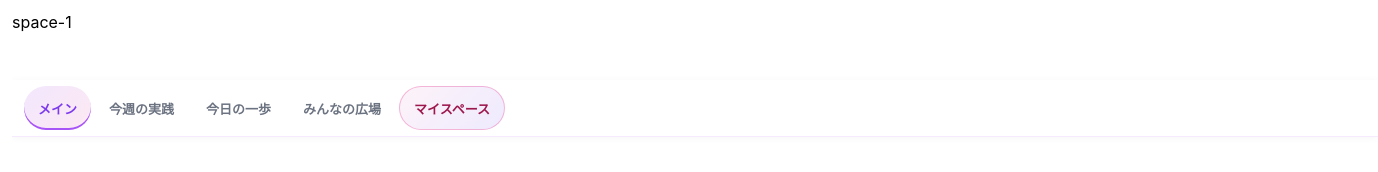
Test case: Pane tab bar 「マイスペース」 shortcut (integration via real normalizeSpace + eligibility) › click pane after personal tab → returns to shared content space
Click the tab with aria-label "マイスペースを開く" at {"x": 452, "y": 108}, box [399,86,505,130]
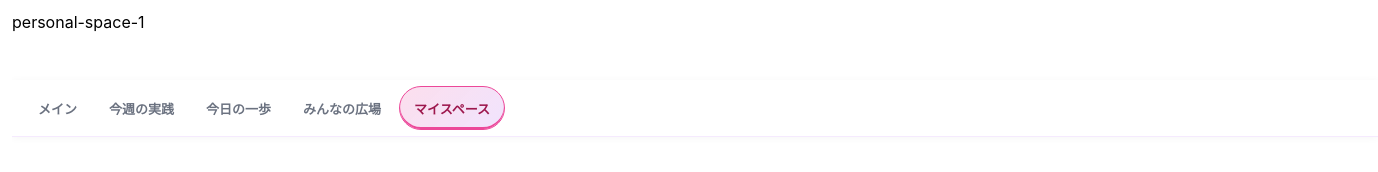
Now the text with test id "content-space-id" reads "personal-space-1", box [12,12,145,32]
Click the tab "メイン" at {"x": 58, "y": 108}, box [24,86,91,130]
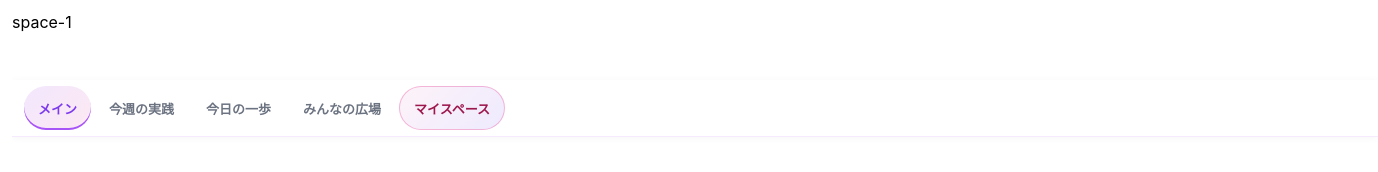
Now the text with test id "content-space-id" reads "space-1", box [12,12,72,32]
